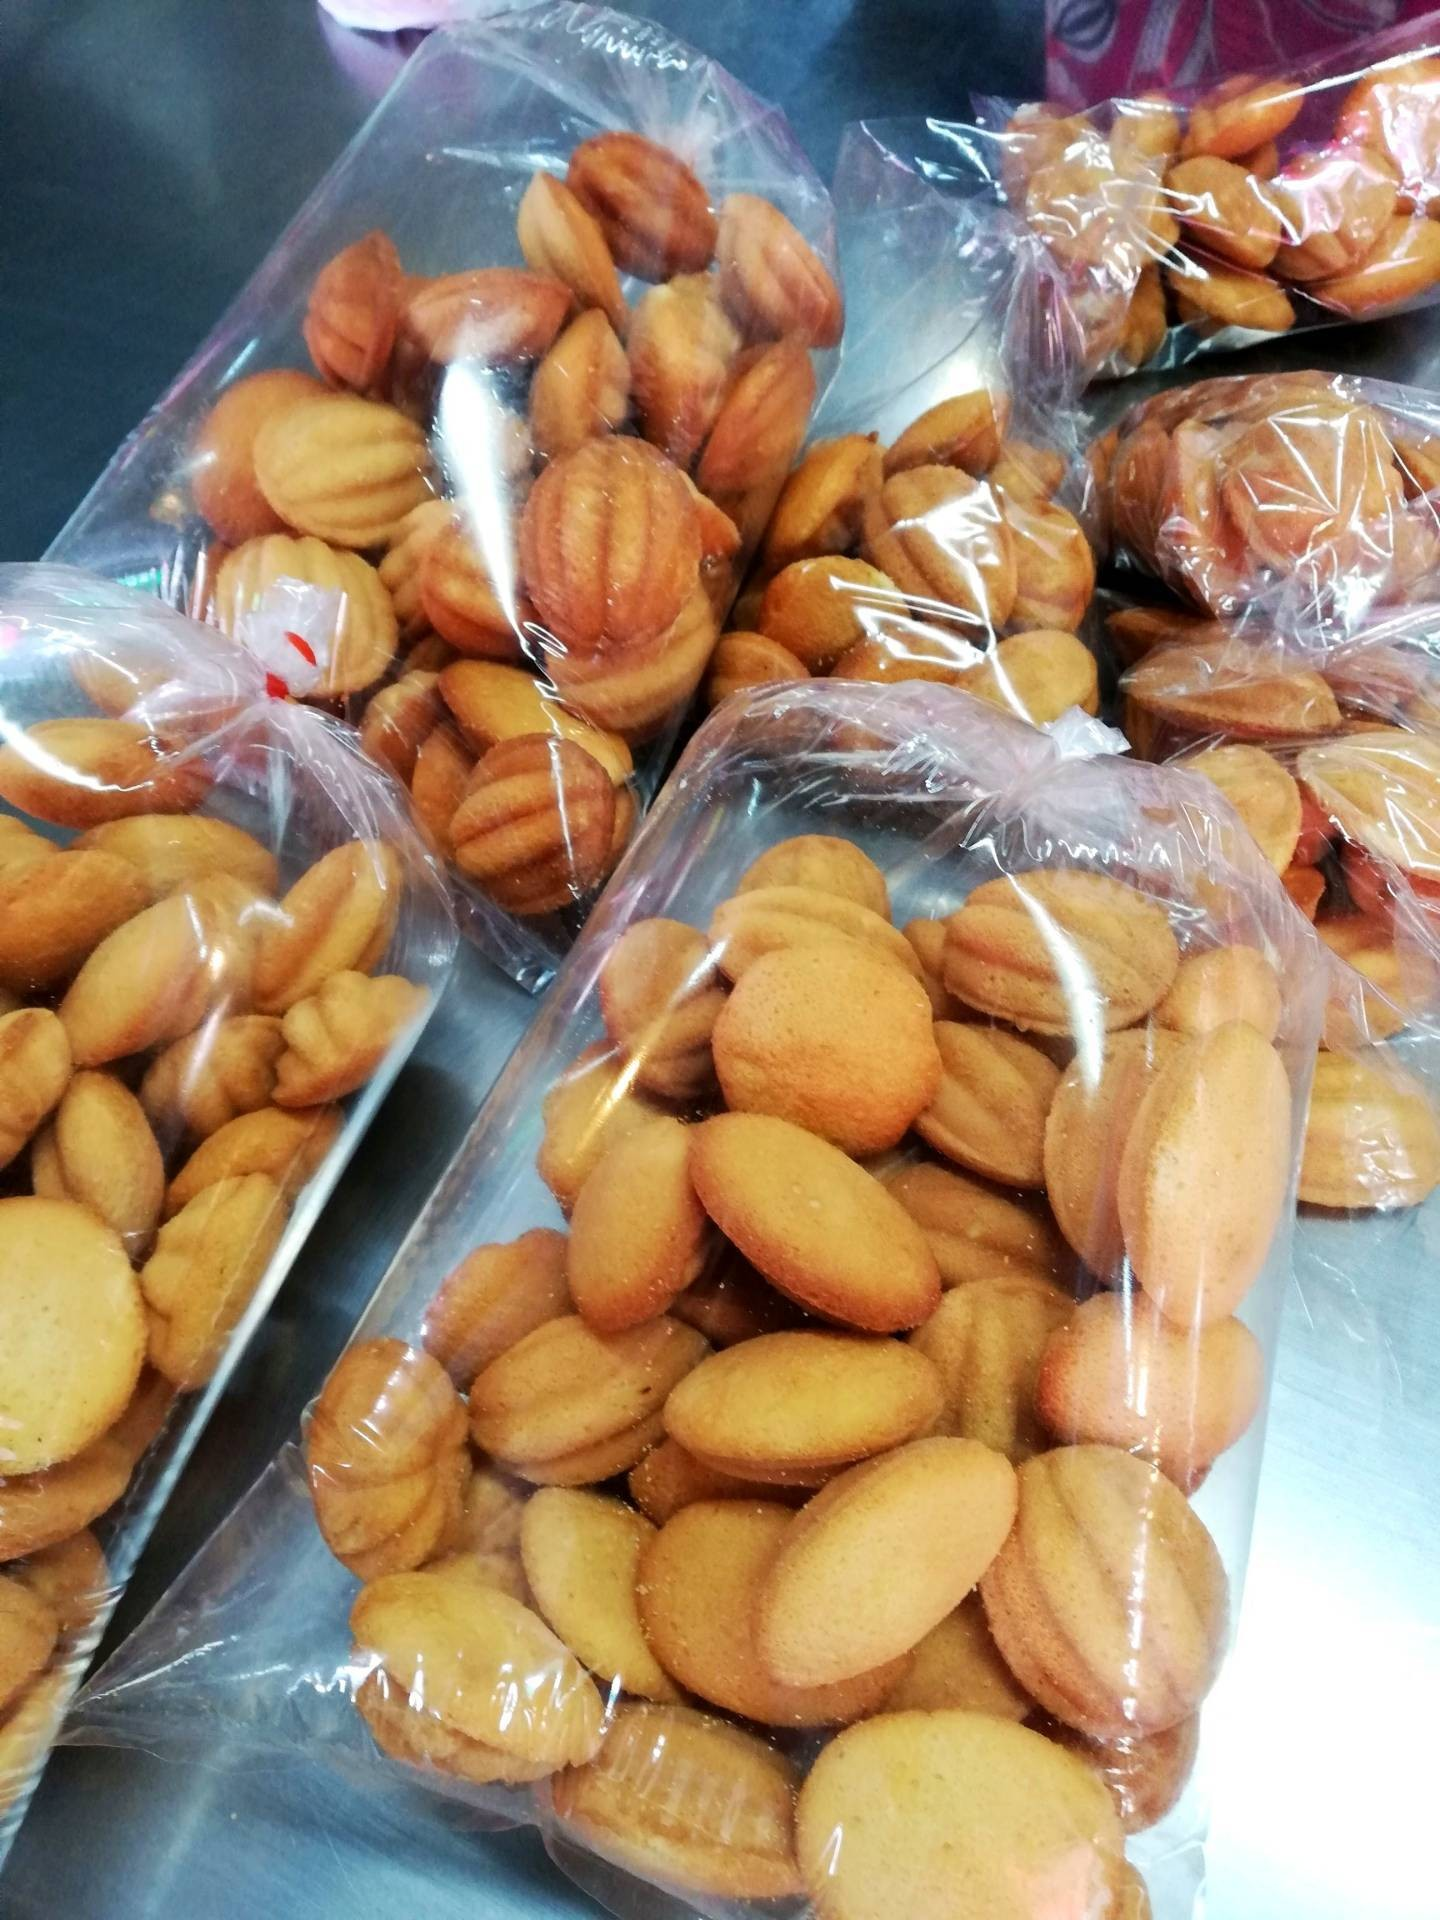kanomkai: (670, 1092, 970, 1370), (741, 1429, 1021, 1699), (693, 928, 953, 1188), (517, 426, 715, 686)
